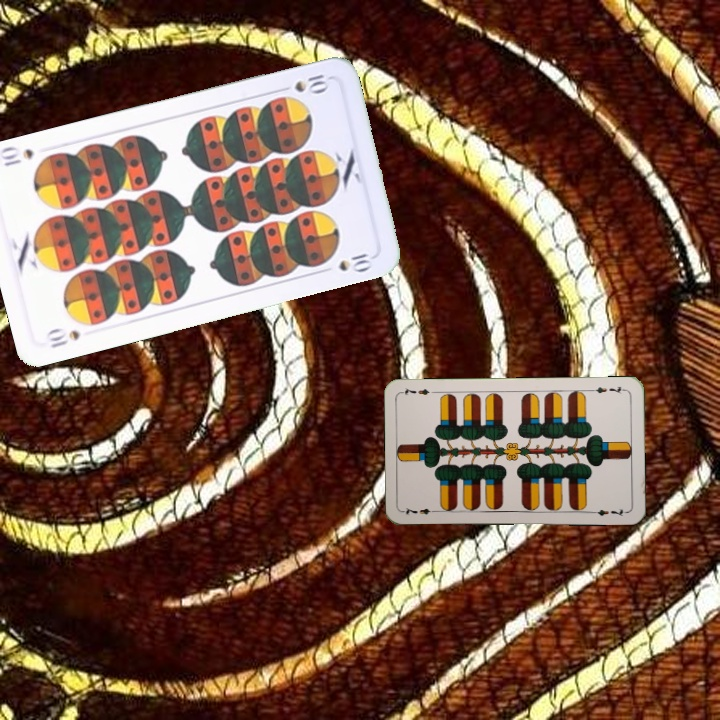E7: (587, 382, 628, 396), (400, 503, 441, 517)
S10: (274, 70, 332, 96), (42, 324, 83, 351)
